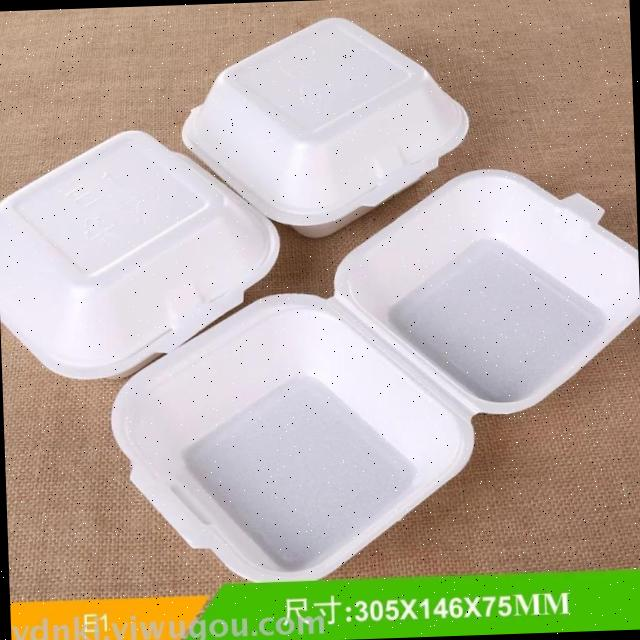styrofoam: (100, 160, 640, 585), (0, 121, 284, 382), (175, 9, 473, 242)
